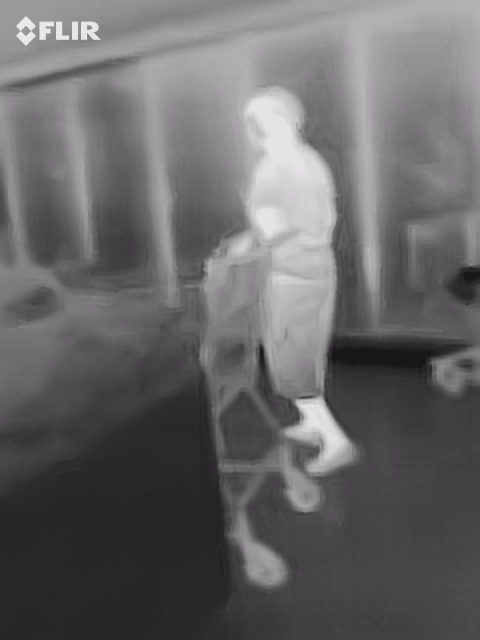head: (241, 84, 304, 152)
